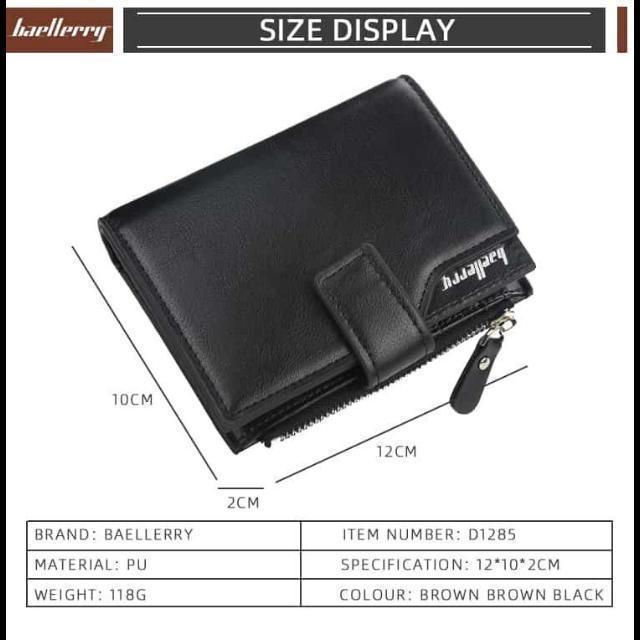Wallet: (91, 69, 538, 461)
